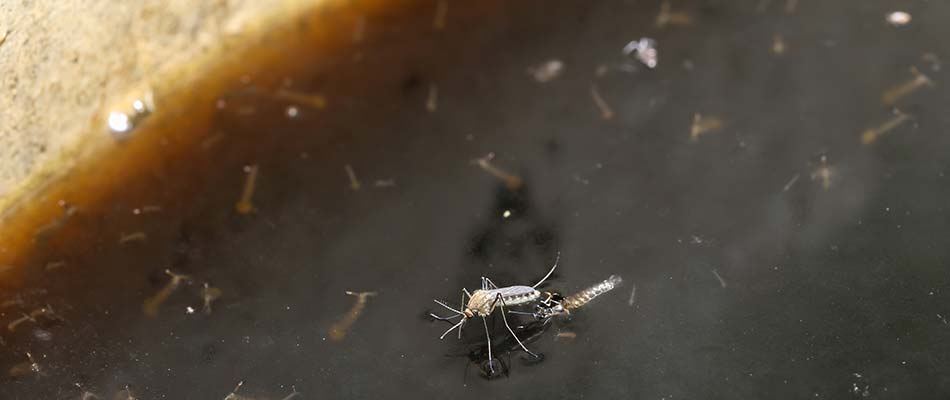Breeding_detected: (419, 247, 630, 374), (136, 260, 191, 329), (325, 288, 375, 354), (233, 159, 269, 225)
